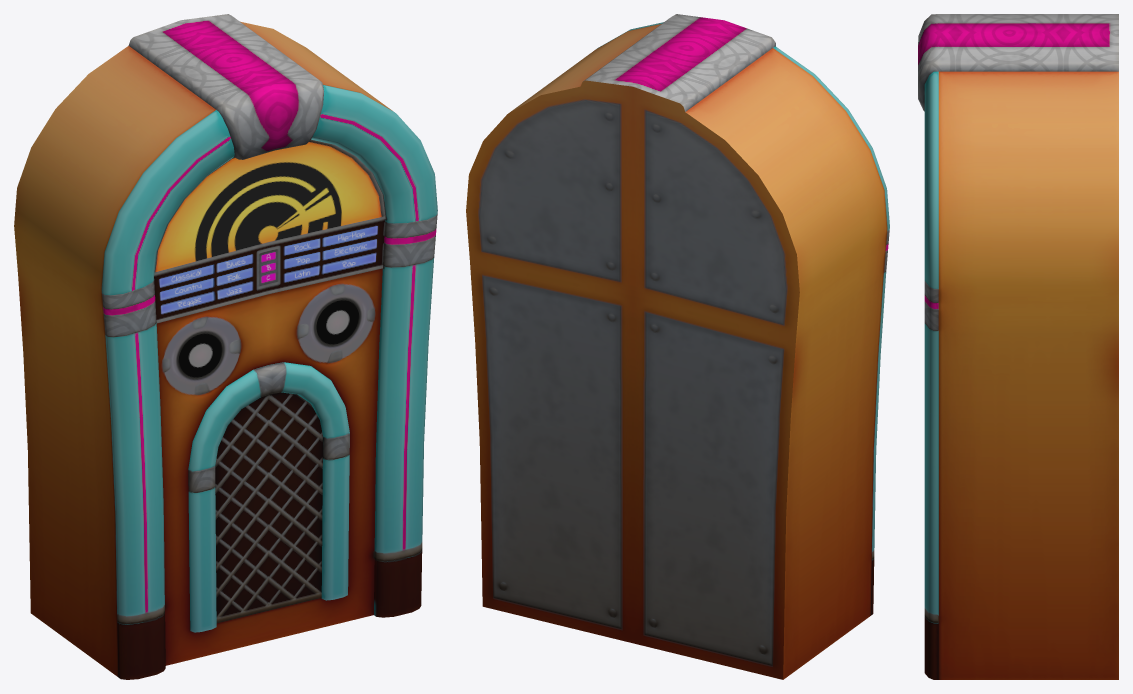
Rendered from CafeJukebox01.FBX.
3 views of the same model, side by side, from view 1: azimuth 30°, elevation 25°; view 2: azimuth 150°, elevation 25°; view 3: azimuth 270°, elevation 25° (orthographic). The views are drawn at different scales.
Visible parts, largest first — view 1: CafeJukebox01; view 2: CafeJukebox01; view 3: CafeJukebox01.
Part boxes in pixels (<box>): CafeJukebox01: <box>14,14,437,679</box>; CafeJukebox01: <box>466,14,889,679</box>; CafeJukebox01: <box>918,14,1118,679</box>.
Size of what is drawn, in the model's own units: 1.31 by 2.09 by 0.6659.
